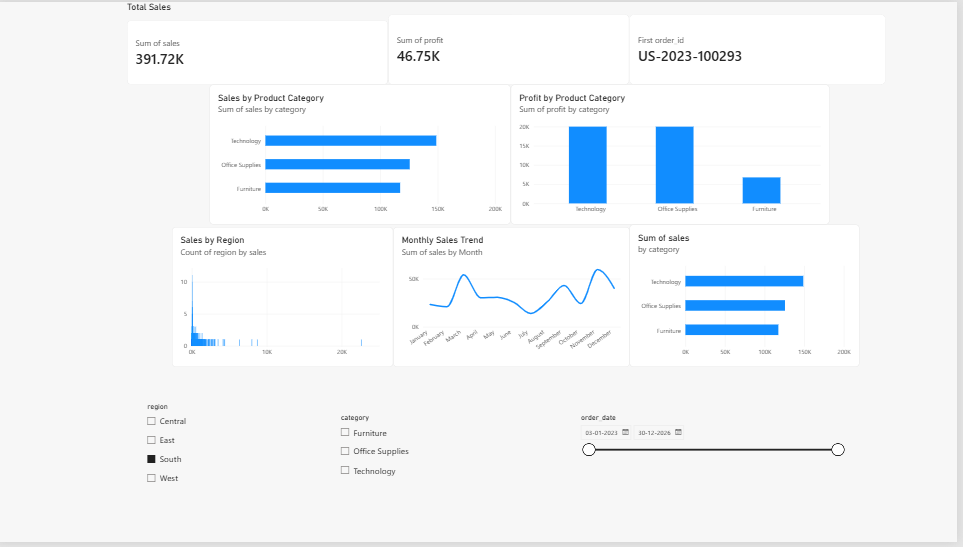

Layout of this report page (visuals, bound fields, positions):
{"tool":"powerbi","page":{"name":"Page 1","canvas":[1920,1080],"ordinal":0},"visuals":[{"type":"cardVisual","title":"Total Sales","fields":{"Data":["Sum(superstore_eda_cleaned.sales)"]},"box":[260,0,522.5,165],"z":0},{"type":"cardVisual","fields":{"Data":["Sum(superstore_eda_cleaned.profit)"]},"box":[782.5,25,482.5,140],"z":1000},{"type":"cardVisual","fields":{"Data":["Min(superstore_eda_cleaned.order_id)"]},"box":[1265,25,512.5,140],"z":2000},{"type":"clusteredBarChart","fields":{"Category":["superstore_eda_cleaned.category"],"Y":["Sum(superstore_eda_cleaned.sales)"]},"box":[1265,445,460,285],"z":3000},{"type":"clusteredBarChart","title":"Sales by Product Category","fields":{"Category":["superstore_eda_cleaned.category"],"Y":["Sum(superstore_eda_cleaned.sales)"]},"box":[425,165,602.5,280],"z":4000},{"type":"clusteredColumnChart","title":"Profit by Product Category","fields":{"Category":["superstore_eda_cleaned.category"],"Y":["Sum(superstore_eda_cleaned.profit)"]},"box":[1027.5,165,637.5,280],"z":5000},{"type":"clusteredColumnChart","title":"Sales by Region","fields":{"Category":["superstore_eda_cleaned.sales"],"Y":["CountNonNull(superstore_eda_cleaned.region)"]},"box":[350,450,442.5,280],"z":6000},{"type":"lineChart","title":"Monthly Sales Trend","fields":{"Category":["superstore_eda_cleaned.order_date.Variation.Date Hierarchy.Month"],"Y":["Sum(superstore_eda_cleaned.sales)"]},"box":[792.5,450,472.5,280],"z":7000},{"type":"slicer","fields":{"Values":["superstore_eda_cleaned.region"]},"box":[292.5,800,357.5,175],"z":7001},{"type":"slicer","fields":{"Values":["superstore_eda_cleaned.category"]},"box":[680,822.5,427.5,152.5],"z":7002},{"type":"slicer","fields":{"Values":["superstore_eda_cleaned.order_date"]},"box":[1160,822.5,537.5,182.5],"z":7003}]}

Visuals, with their boxes in screenshot pixels (x1, y1, x2, y2), scaled from the page's 1920x1080 canvas onto the 963x547 screenshot:
"Total Sales" cardVisual: 130/0/392/84
cardVisual - Sum(superstore_eda_cleaned.profit): 392/13/634/84
cardVisual - Min(superstore_eda_cleaned.order_id): 634/13/892/84
clusteredBarChart - superstore_eda_cleaned.category x Sum(superstore_eda_cleaned.sales): 634/225/865/370
"Sales by Product Category" clusteredBarChart: 213/84/515/225
"Profit by Product Category" clusteredColumnChart: 515/84/835/225
"Sales by Region" clusteredColumnChart: 176/228/397/370
"Monthly Sales Trend" lineChart: 397/228/634/370
slicer - superstore_eda_cleaned.region: 147/405/326/494
slicer - superstore_eda_cleaned.category: 341/417/555/494
slicer - superstore_eda_cleaned.order_date: 582/417/851/509
